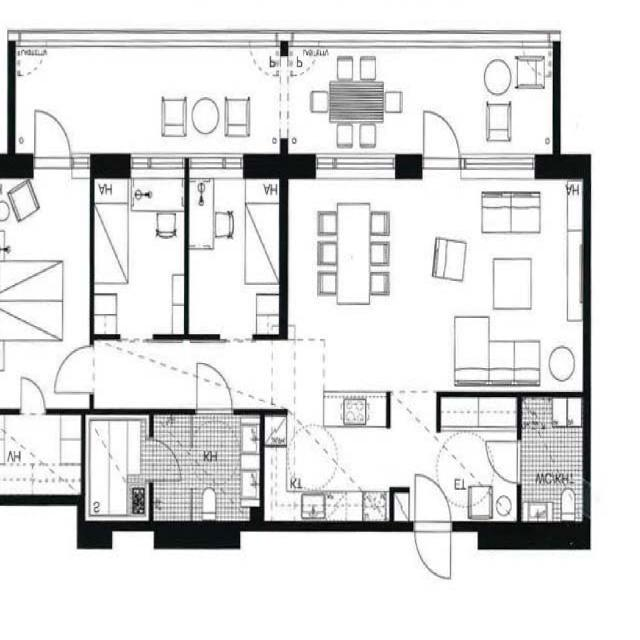door: (424, 106, 459, 178), (35, 107, 70, 179), (414, 473, 450, 532), (414, 521, 450, 579), (197, 363, 232, 414), (56, 347, 94, 392), (146, 440, 185, 480), (486, 442, 522, 482), (21, 376, 46, 414)
